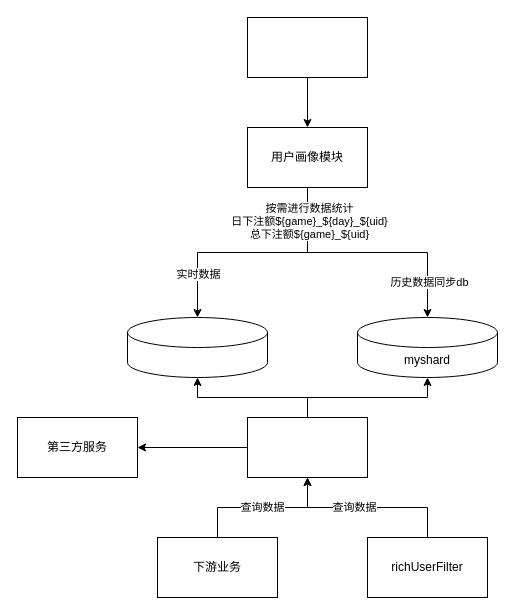
The diagram is 515 pixels wide and 615 high, and some of its shapes have lost their labels. Here are the shapes that lost their labels. From the top down, the centre of each, then its label:
the point at 307,47: kafka消息
the point at 197,347: codis
the point at 307,447: 数据模块api
